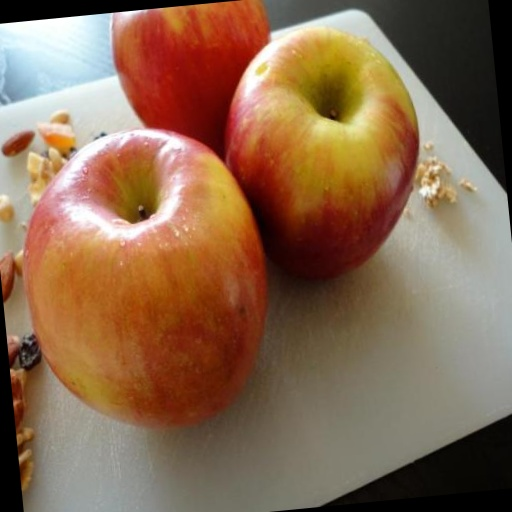fruit: (117, 150, 410, 512), (363, 44, 475, 254), (149, 0, 372, 10)
